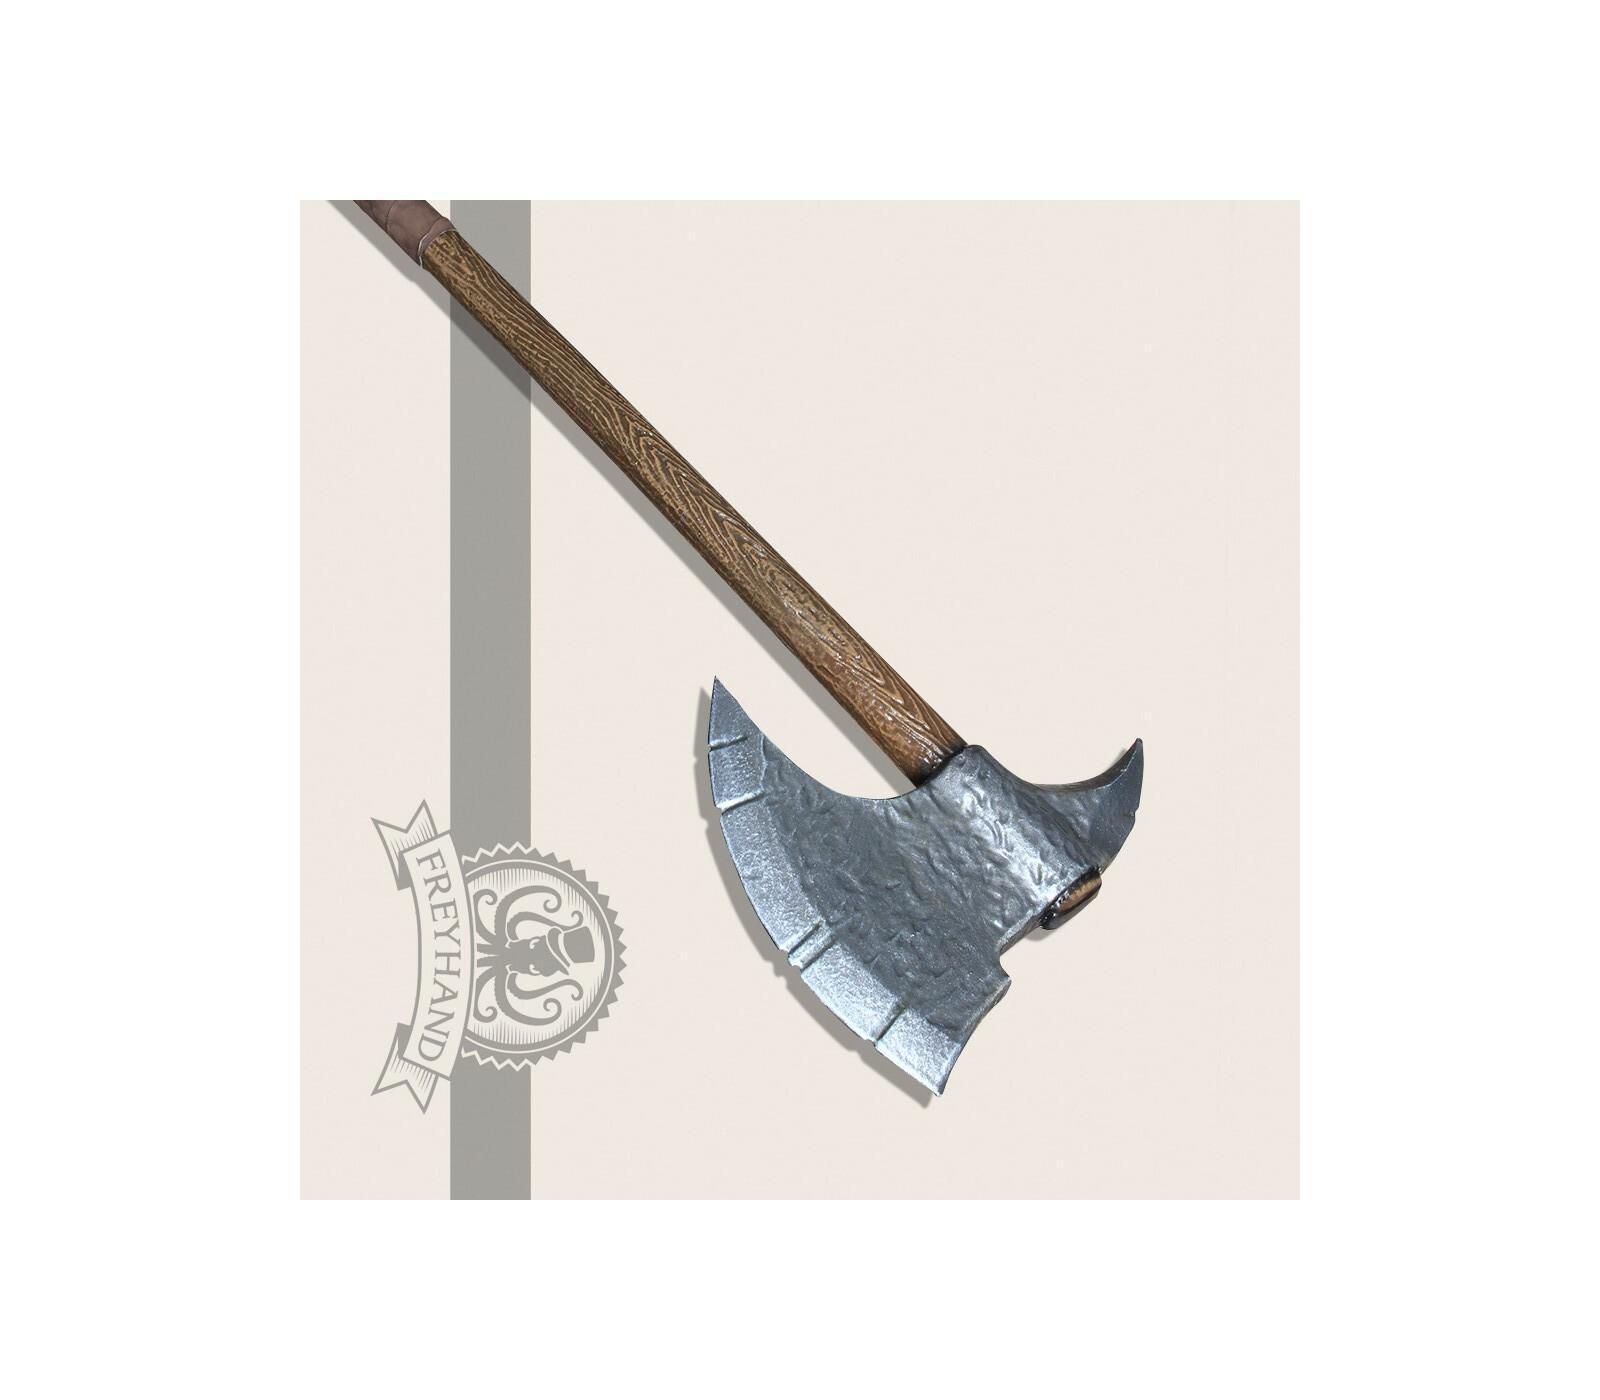machado: (358, 201, 1141, 1093)
